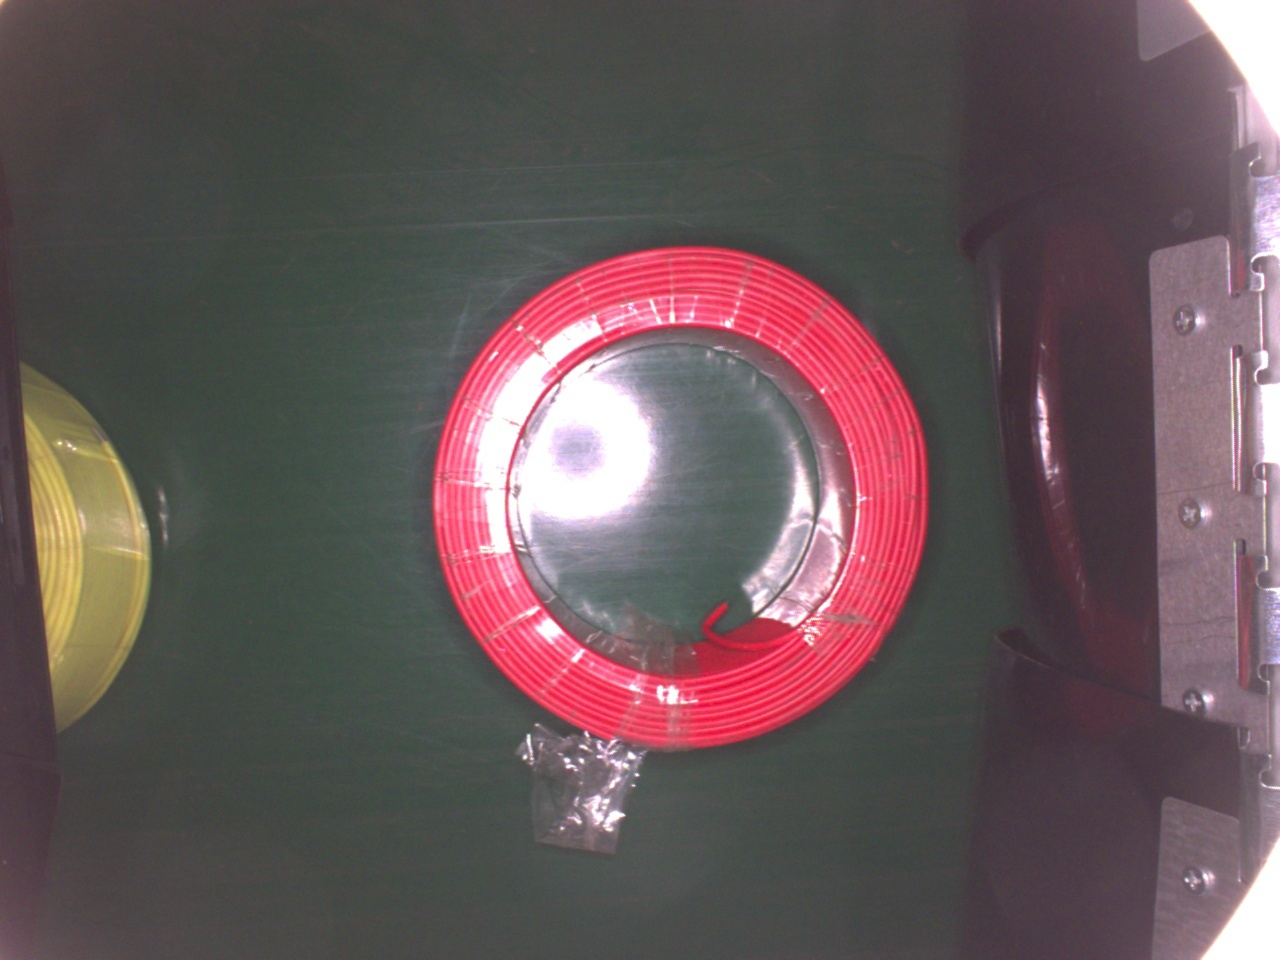red: (430, 244, 931, 757)
yellow: (18, 363, 154, 728)
